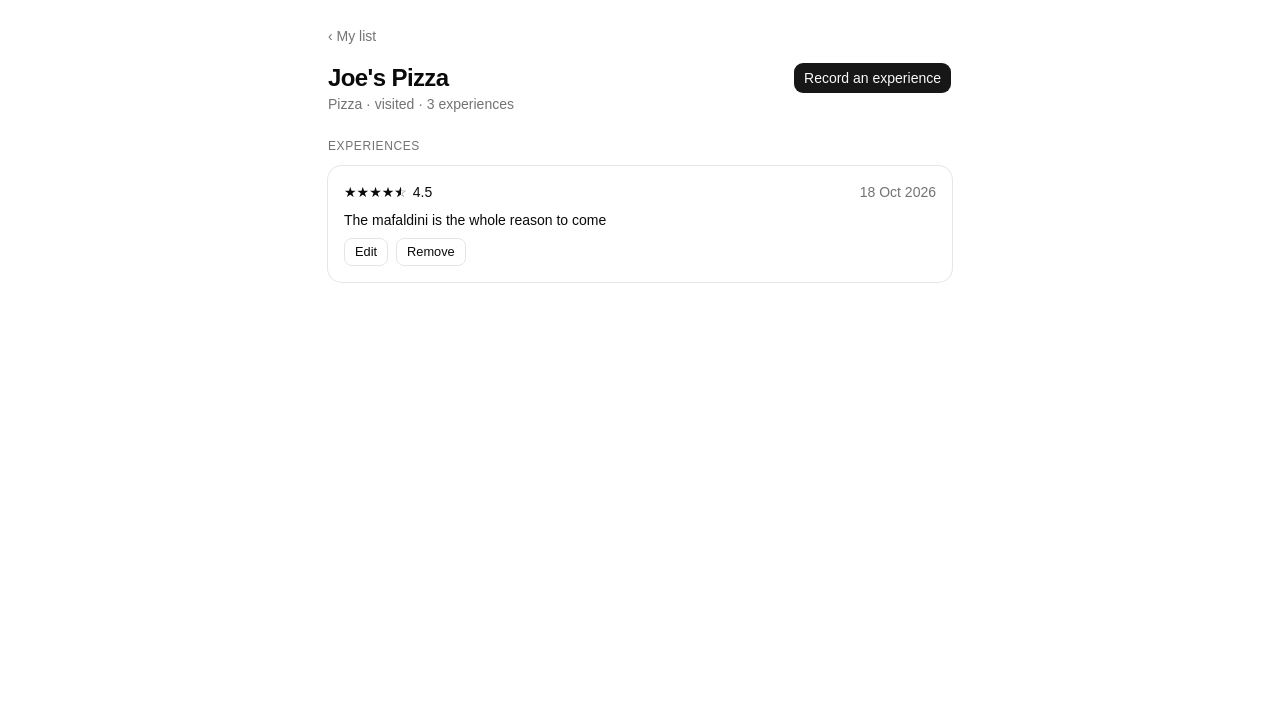
Test: changing an experience › closes once the change is saved
The width and height of the screenshot is (1280, 720).
Click the button "Edit". click: (366, 252)
box: [344,238,388,266]
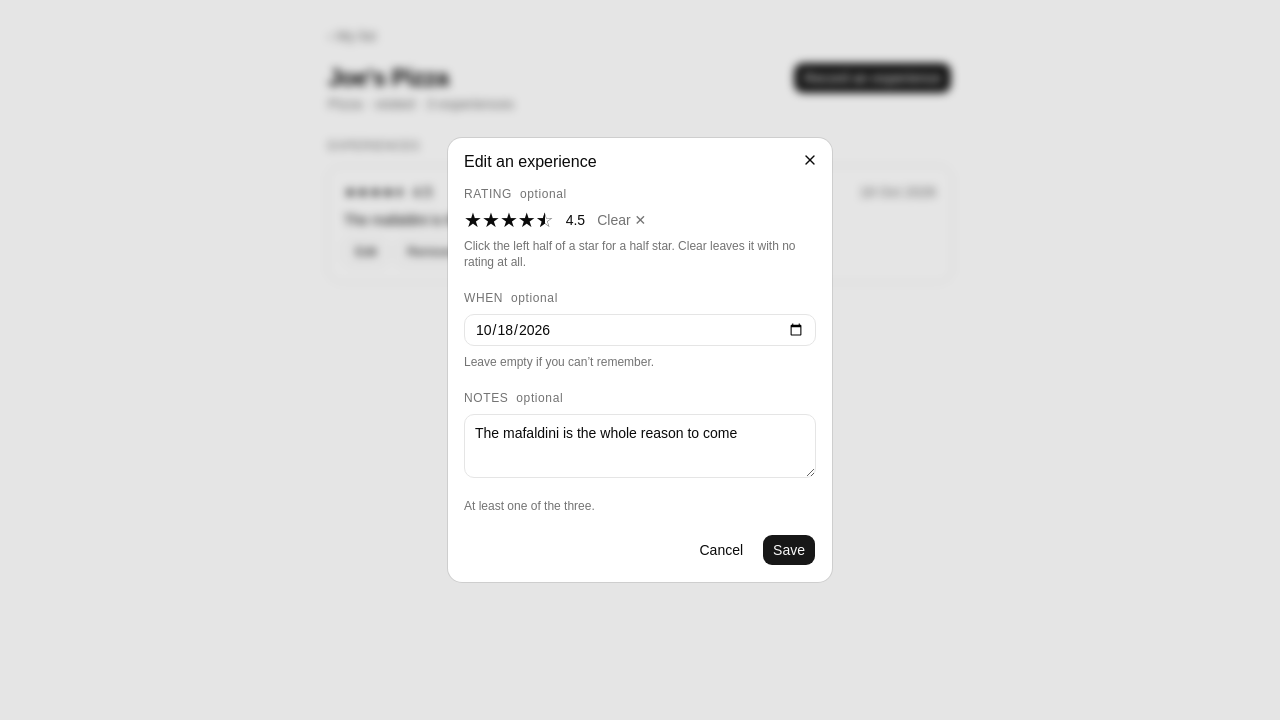
Check: the heading "Edit an experience" is shown, box [464,153,596,170]
Click the radio button named "5 stars". click: (549, 220)
box: [545,210,554,230]
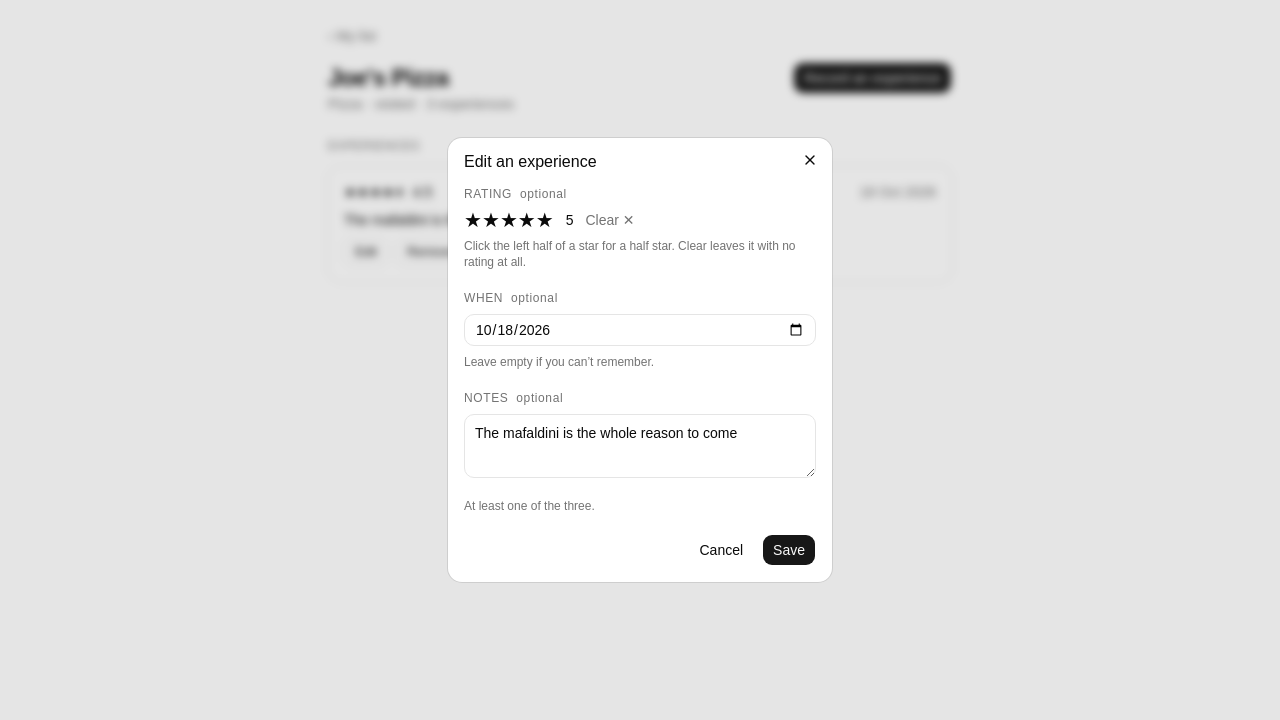
Click the button "Save". click: (789, 550)
box: [762,534,816,566]
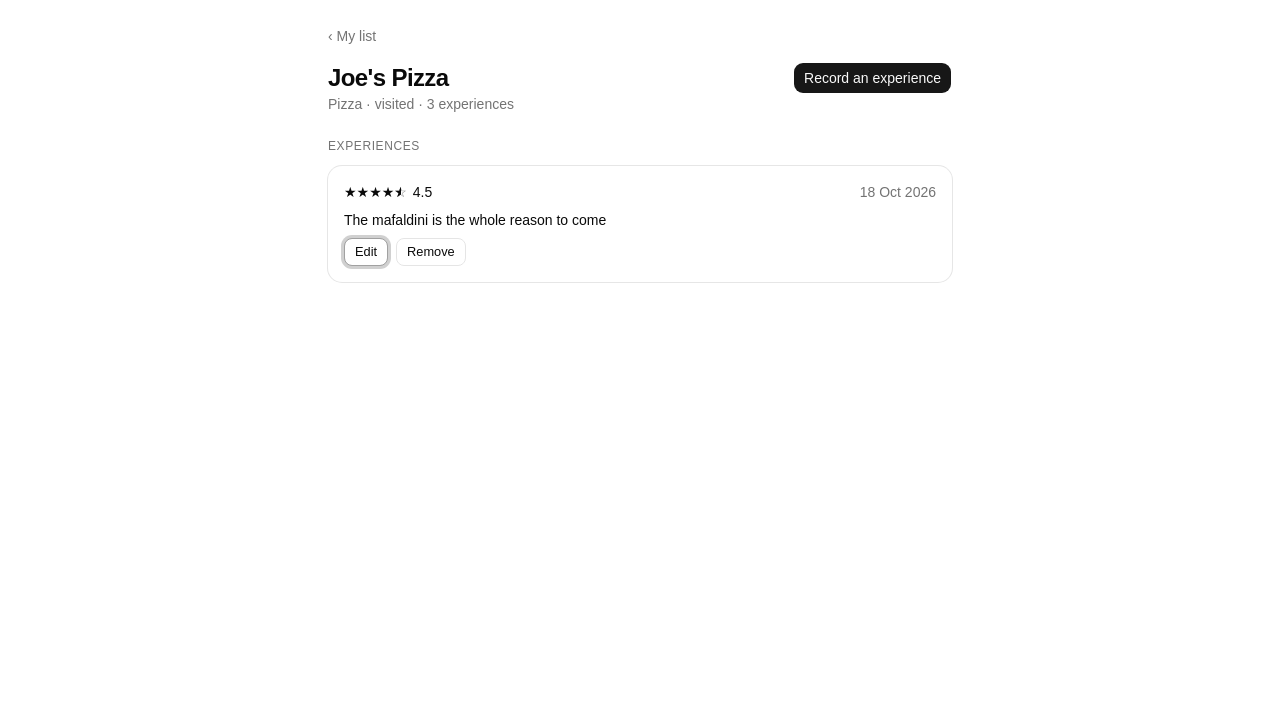
Check: the dialog is gone
